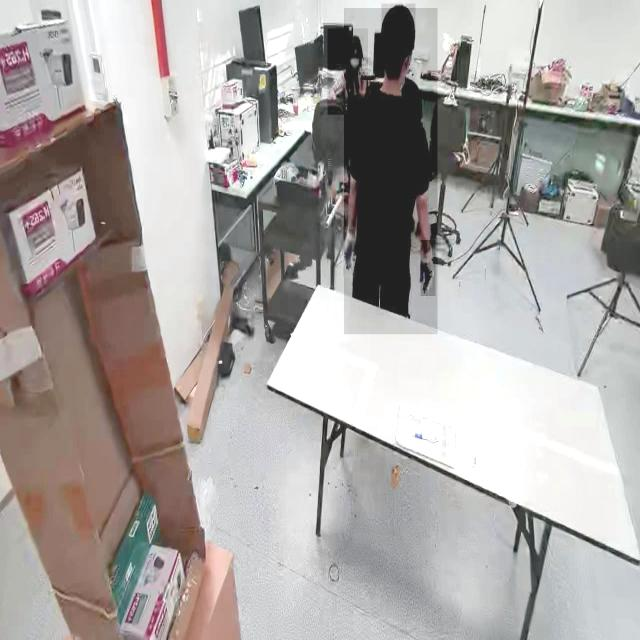face_mask: (349, 51, 361, 73)
hand_glove: (420, 240, 436, 297), (340, 227, 354, 278)
head_nohelmet: (381, 3, 415, 33), (348, 34, 362, 50)
person: (343, 8, 438, 335), (327, 29, 368, 116)
